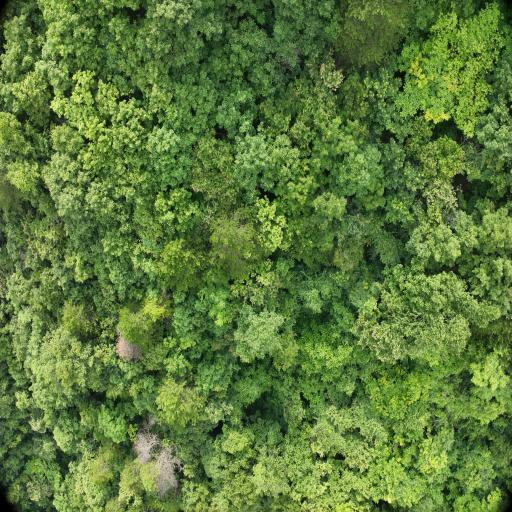dead-tree: (118, 338, 133, 363), (163, 463, 173, 497), (138, 438, 149, 459)
